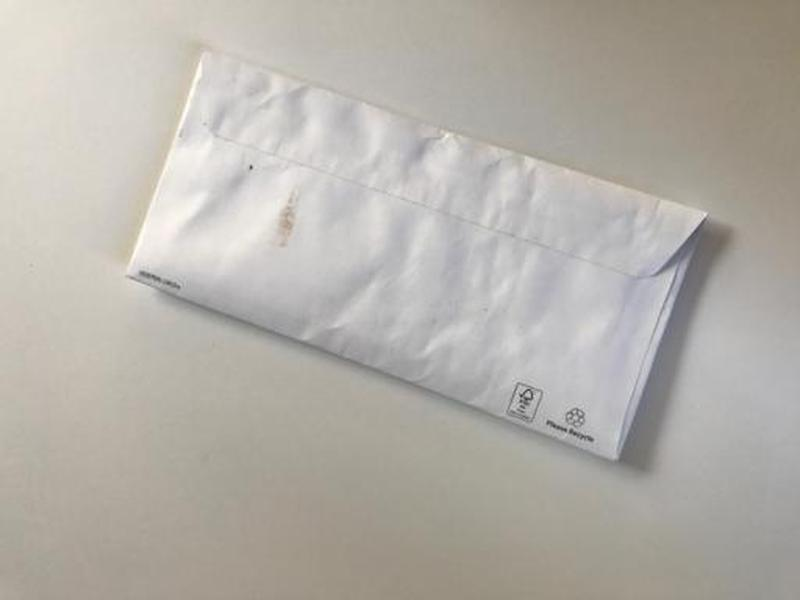paper: (127, 49, 711, 464)
